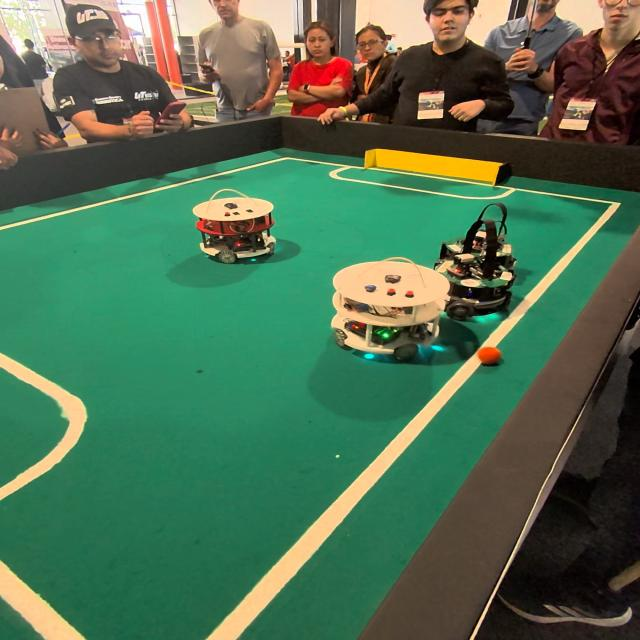Robot: (325, 242, 443, 376), (443, 195, 523, 317), (191, 184, 282, 268)
pelota: (479, 347, 503, 366)
